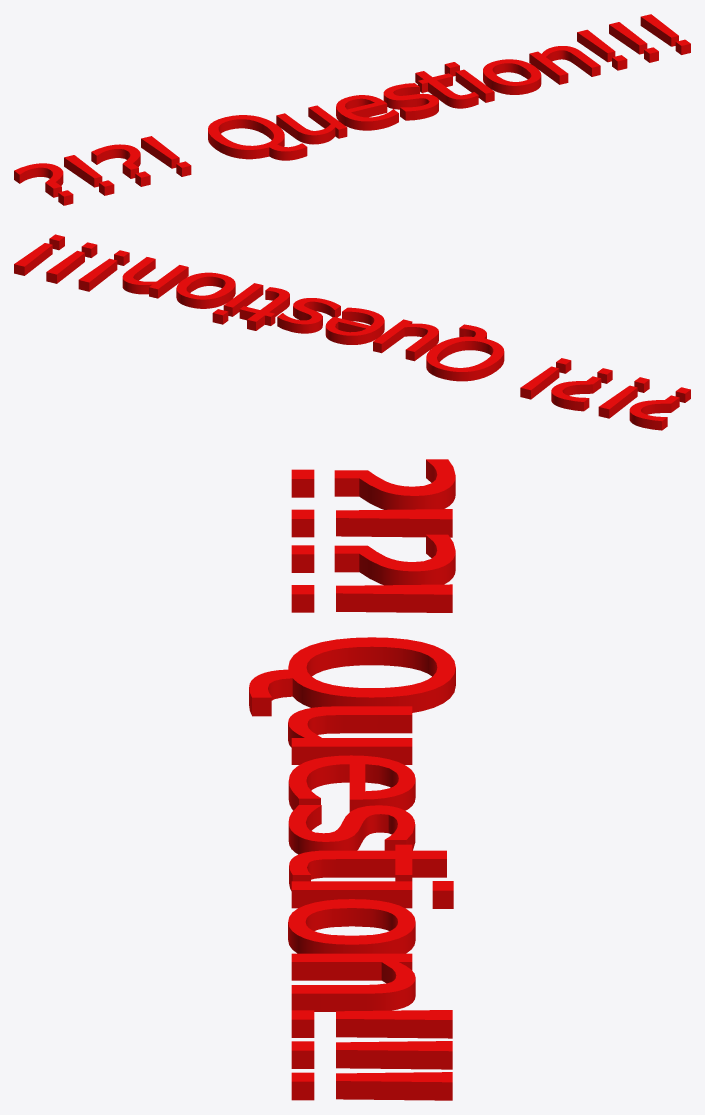
The model's file is Exclamation_mark.dae.
3 views of the same model, one above another, from view 1: azimuth 30°, elevation 25°; view 2: azimuth 150°, elevation 25°; view 3: azimuth 270°, elevation 25° (orthographic). The views are drawn at different scales.
Parts seen in each view (by area): view 1: ______Question___ (×17); view 2: ______Question___ (×17); view 3: ______Question___ (×17).
Boxes of the visible parts, x1=… form: ______Question___ (×17): x1=14, y1=14, x2=678, y2=197; ______Question___ (×17): x1=14, y1=243, x2=679, y2=430; ______Question___ (×17): x1=249, y1=459, x2=455, y2=1100.
Bounding box in the file's own units: 85.69 × 12.02 × 1.18.
